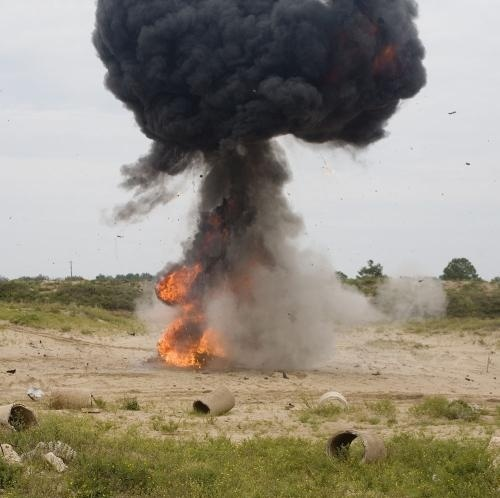fire: (155, 255, 223, 368)
